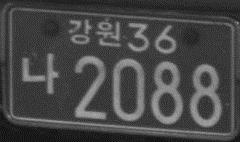0: (111, 57, 145, 121)
2: (72, 55, 107, 119)
3: (125, 21, 149, 52)
6: (154, 24, 176, 53)
8: (150, 61, 184, 125), (189, 63, 222, 127)
강원_O: (68, 18, 121, 47)
나: (21, 52, 58, 94)
